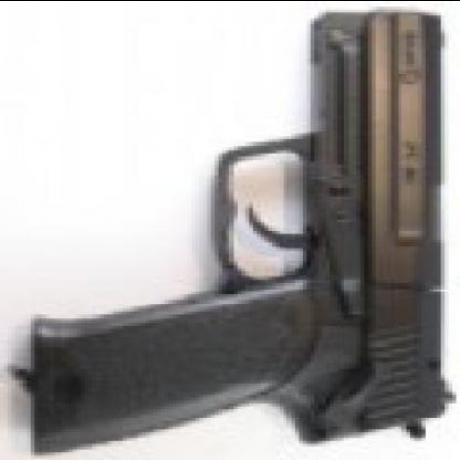weapon: (14, 4, 460, 460)
